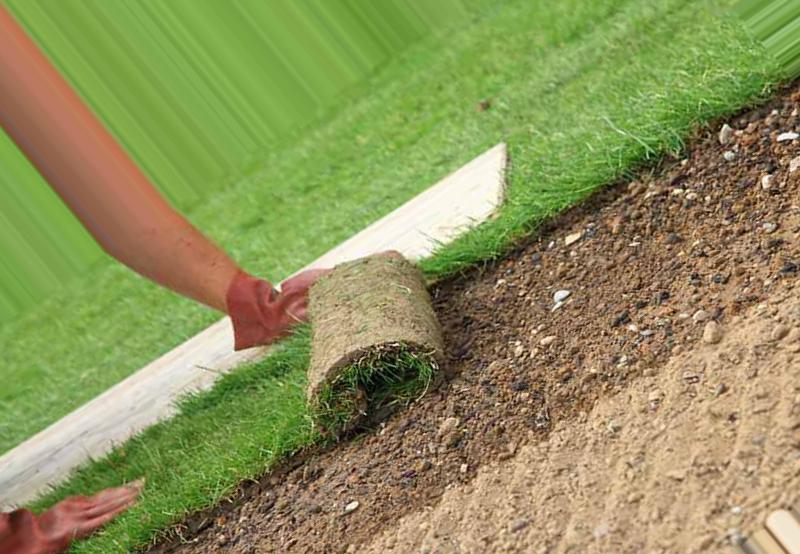patch: (452, 277, 767, 523), (611, 138, 791, 285), (340, 398, 489, 554)
